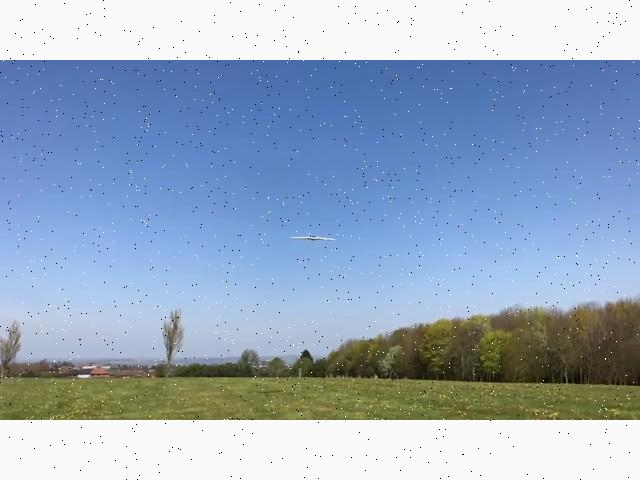Anti-Drone: (288, 232, 336, 244)
